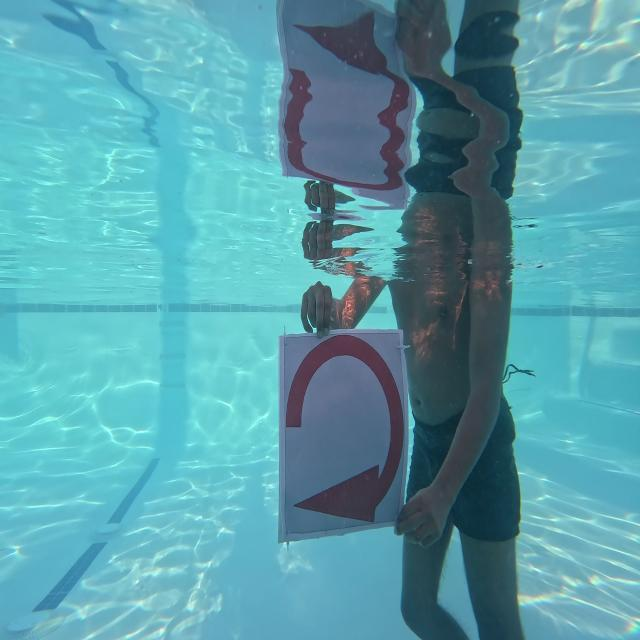red_side: (266, 314, 416, 552)
